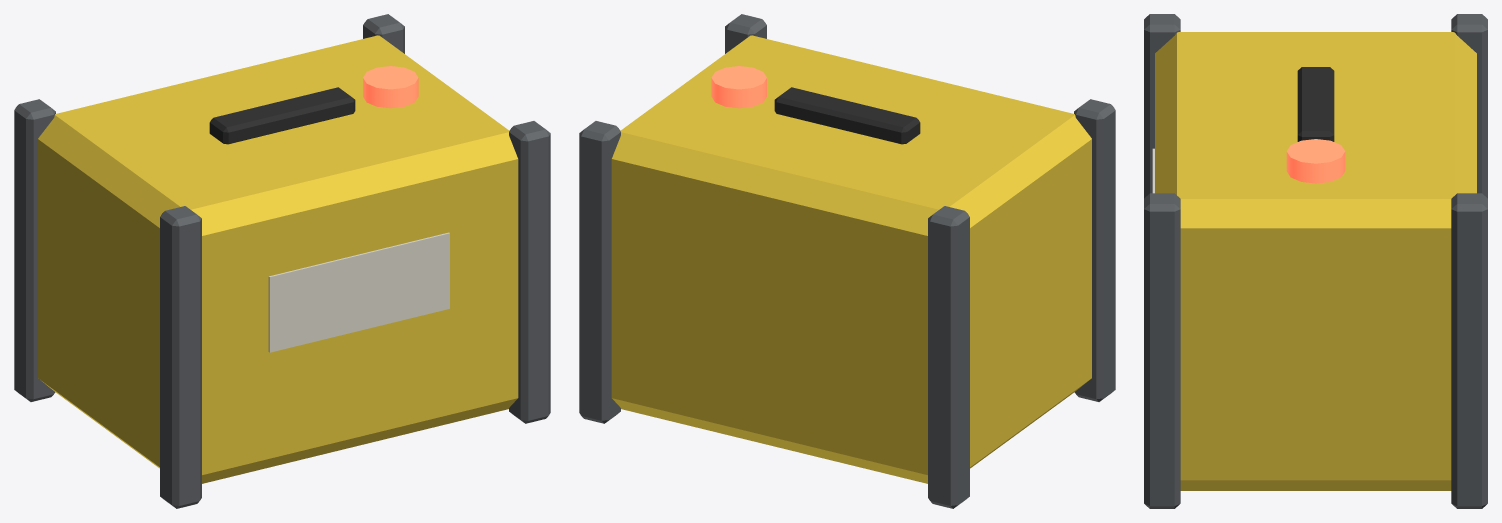
File: salvage_black_box.glb
3 views of the same model, side by side, from view 1: azimuth 30°, elevation 25°; view 2: azimuth 150°, elevation 25°; view 3: azimuth 270°, elevation 25° (orthographic). The views are drawn at different scales.
Parts seen in each view (by area): view 1: salvage_black_box; view 2: salvage_black_box; view 3: salvage_black_box.
Boxes of the visible parts, bbox=[...] form: salvage_black_box: bbox=[14, 14, 550, 508]; salvage_black_box: bbox=[579, 14, 1115, 508]; salvage_black_box: bbox=[1144, 14, 1487, 508].
Bounding box in the file's own units: 0.63 × 0.48 × 0.47.
